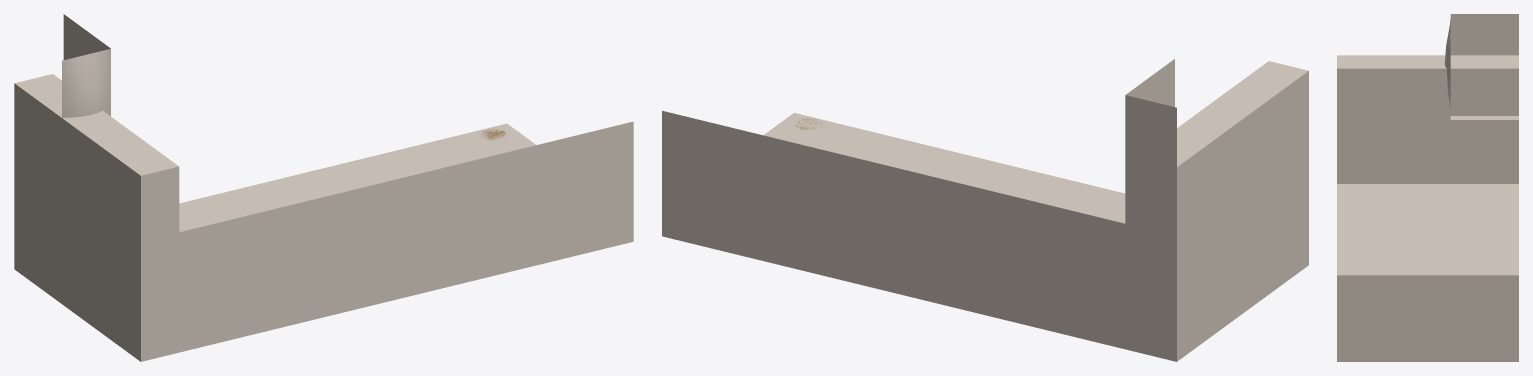
The model's file is chaise.glb.
The picture shows the model from 3 angles, left to right: view 1: azimuth 30°, elevation 25°; view 2: azimuth 150°, elevation 25°; view 3: azimuth 270°, elevation 25°; orthographic projection. The views are drawn at different scales.
Bounding box in the file's own units: 1.8 × 0.85 × 0.8.
